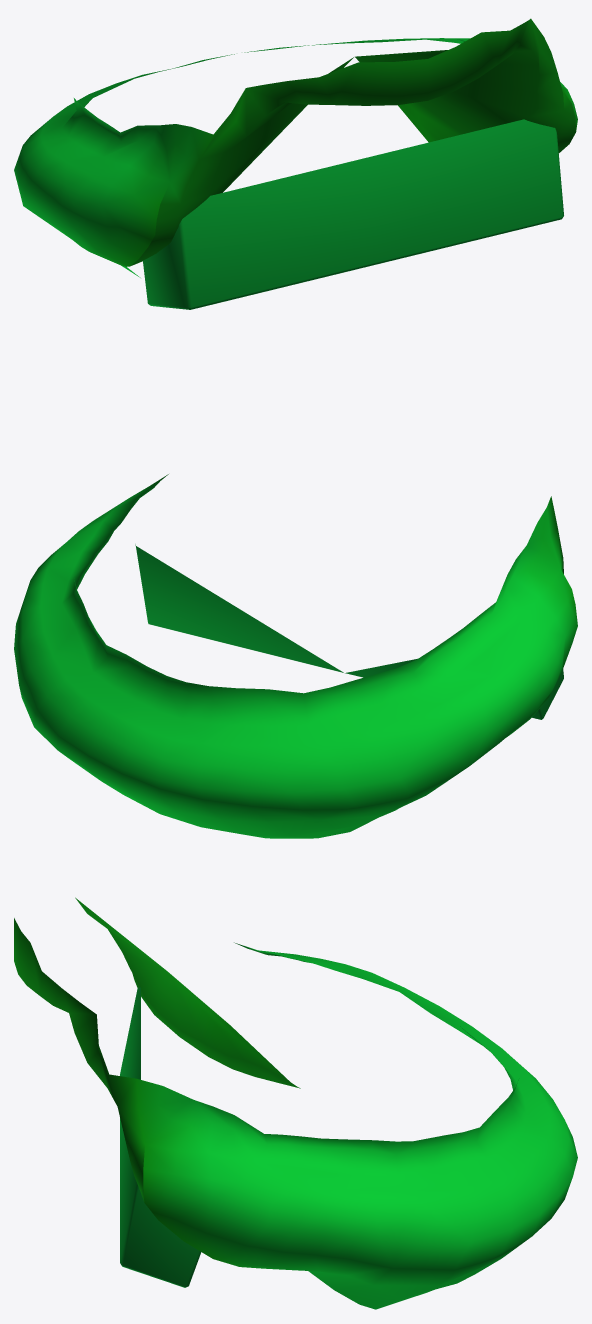
The model's file is Hair2_54.glb.
The picture shows the model from 3 angles, top to bottom: view 1: azimuth 30°, elevation 25°; view 2: azimuth 150°, elevation 25°; view 3: azimuth 270°, elevation 25°; orthographic projection. The views are drawn at different scales.
Bounding box in the file's own units: 67.02 × 46.02 × 63.91.
